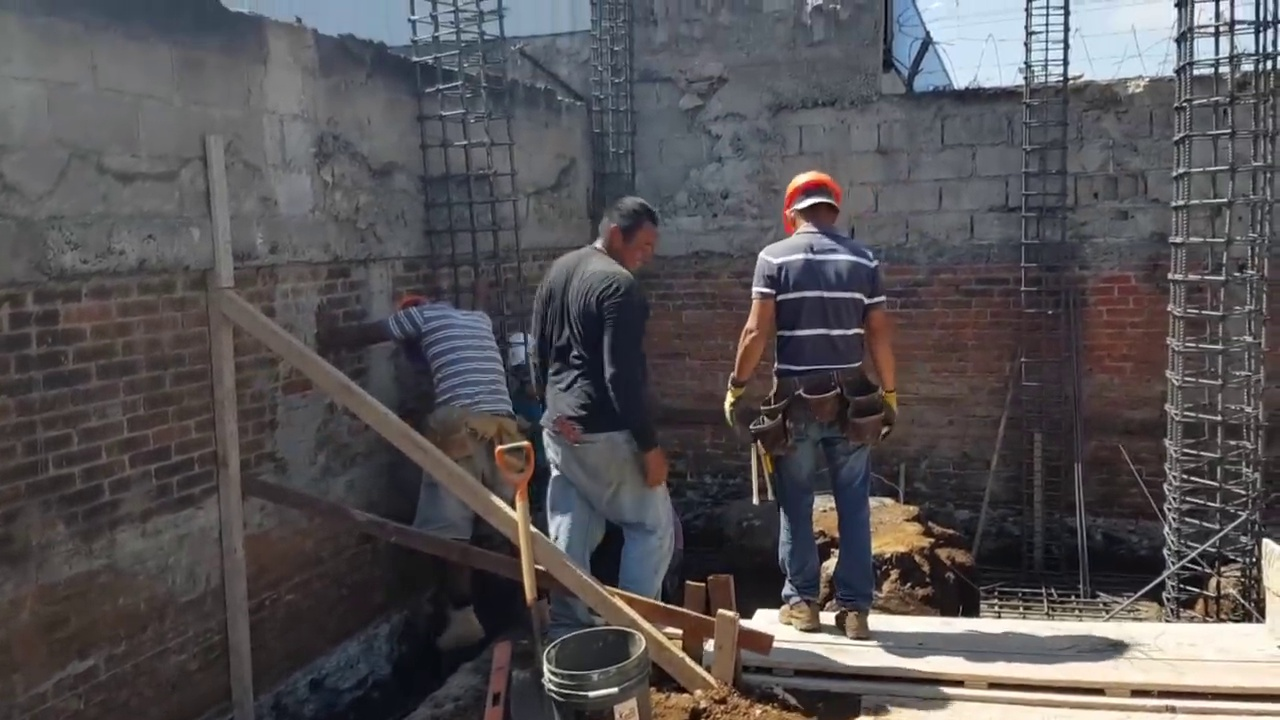helmet: (782, 170, 841, 233)
helmet-off: (592, 192, 663, 274)
helmet-on: (782, 168, 842, 239)
person: (723, 167, 901, 643), (321, 289, 527, 656), (535, 189, 676, 639)
